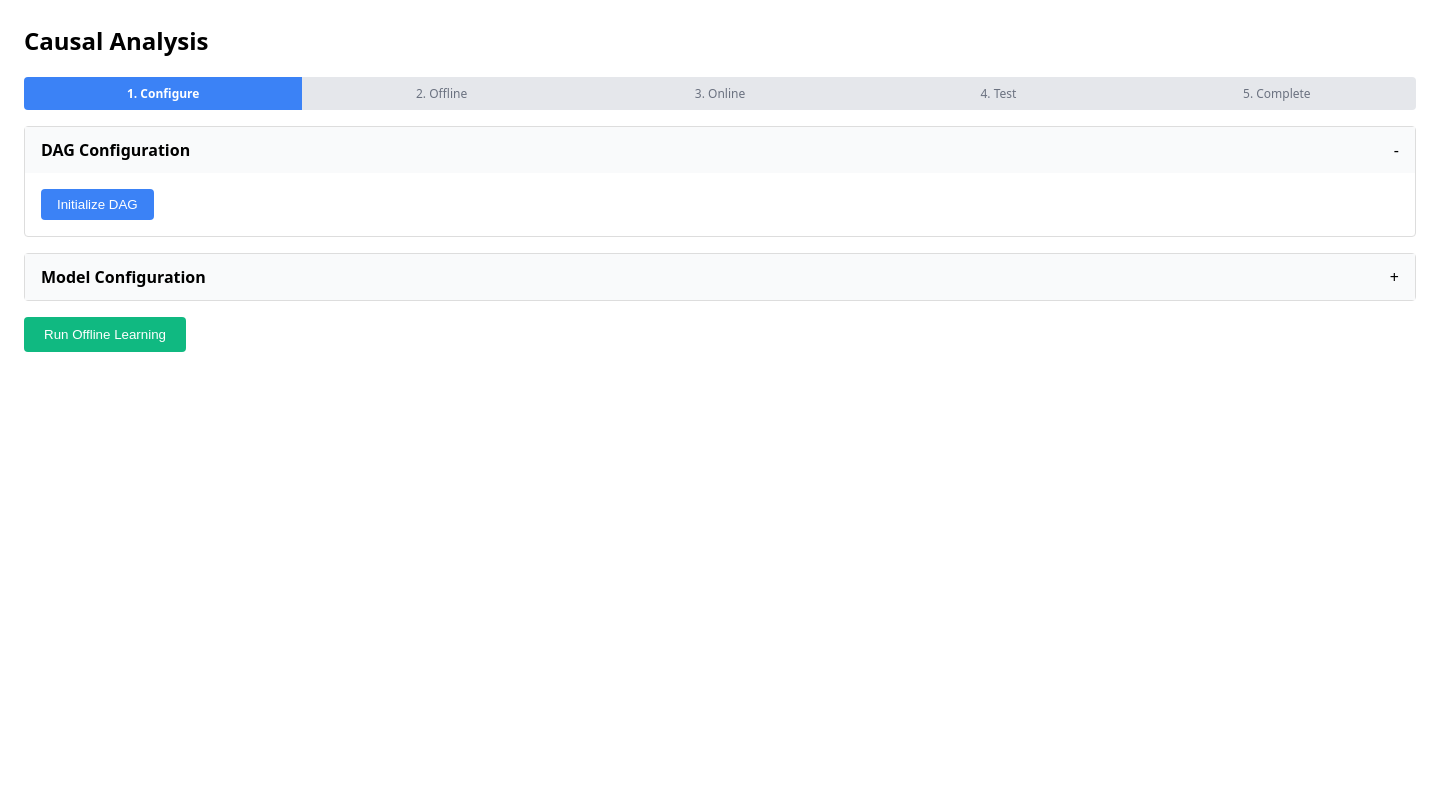
Test: CausalAnalysisPanel › DAG Section › should initialize DAG when button is clicked
Click the button "Initialize DAG".
click(97, 204)  # box x1=41 y1=189 x2=154 y2=220
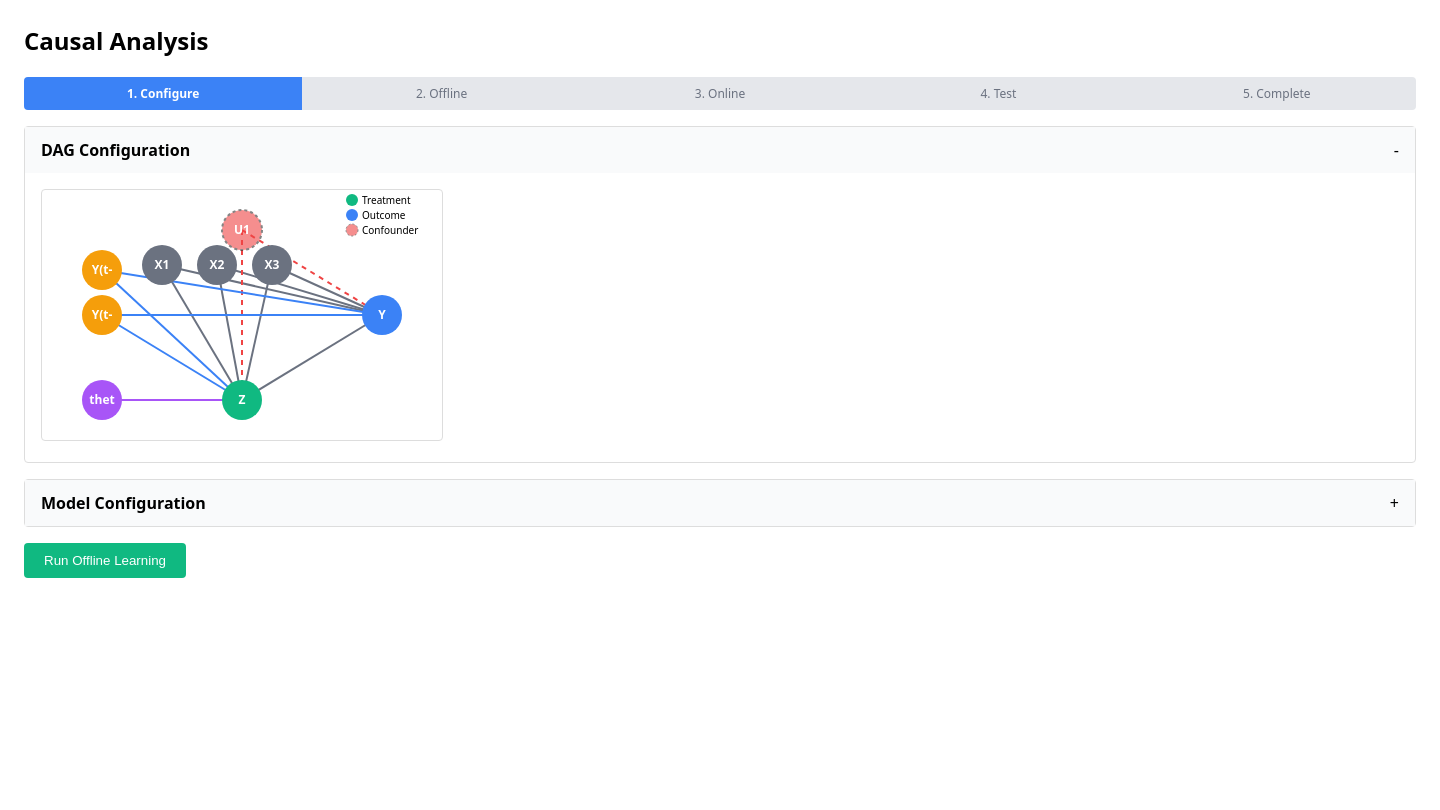
Now the icon "Z Y X1 X2 X3 U1 Y(t- Y(t- thet Treatment Outcome Confounder" is shown, box x1=41 y1=189 x2=443 y2=441
